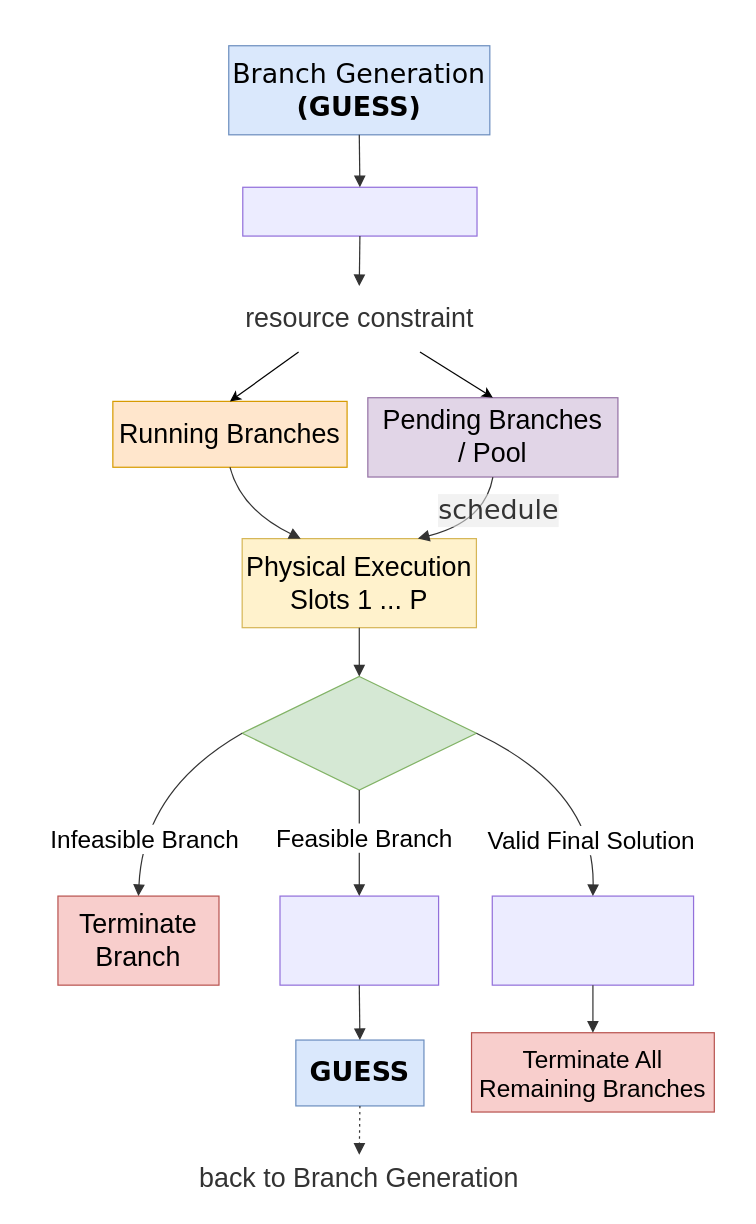
Some shapes in this 756 by 1224 pixel diagram are drawn without their labels. Here are the shapes that lost their labels. From the top down, the centre of each, then its label:
At [359,211]: "Logical Branches".
At [358,732]: "CHECK/VERIFY".
At [359,940]: "Continue Execution".
At [592,940]: "Global Success Signal".
